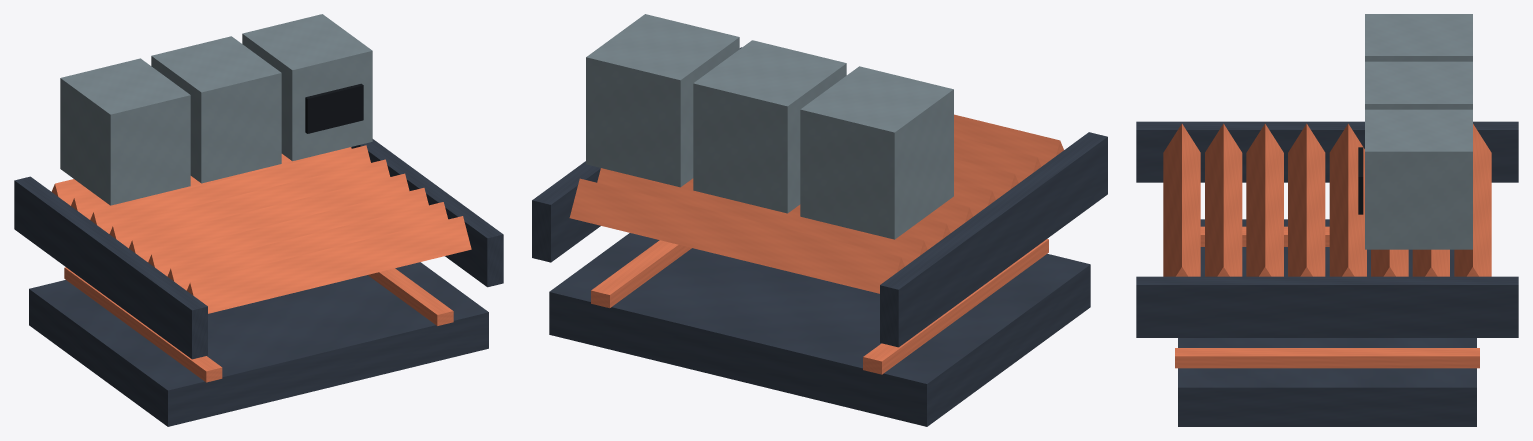
The model's file is atlas100-s023-a02.lod2.glb.
3 renders of one model, left to right at view 1: azimuth 30°, elevation 25°; view 2: azimuth 150°, elevation 25°; view 3: azimuth 270°, elevation 25°, orthographic. The views are drawn at different scales.
Parts seen in each view (by area): view 1: atlas100-s023-a02:part-000, atlas100-s023-a02:part-013, atlas100-s023-a02:part-015, atlas100-s023-a02:part-011, atlas100-s023-a02:part-017, atlas100-s023-a02:part-010, atlas100-s023-a02:part-009, atlas100-s023-a02:part-006, atlas100-s023-a02:part-008, atlas100-s023-a02:part-005, atlas100-s023-a02:part-007, atlas100-s023-a02:part-012 (+5 smaller); view 2: atlas100-s023-a02:part-000, atlas100-s023-a02:part-013, atlas100-s023-a02:part-017, atlas100-s023-a02:part-015, atlas100-s023-a02:part-011, atlas100-s023-a02:part-003, atlas100-s023-a02:part-004, atlas100-s023-a02:part-012, atlas100-s023-a02:part-001, atlas100-s023-a02:part-002, atlas100-s023-a02:part-010, atlas100-s023-a02:part-009 (+4 smaller); view 3: atlas100-s023-a02:part-012, atlas100-s023-a02:part-000, atlas100-s023-a02:part-017, atlas100-s023-a02:part-011, atlas100-s023-a02:part-002, atlas100-s023-a02:part-015, atlas100-s023-a02:part-009, atlas100-s023-a02:part-010, atlas100-s023-a02:part-007, atlas100-s023-a02:part-008, atlas100-s023-a02:part-013, atlas100-s023-a02:part-006 (+5 smaller).
Boxes of the visible parts, <box> form: atlas100-s023-a02:part-000: <box>29,262,488,426</box>; atlas100-s023-a02:part-013: <box>60,58,190,205</box>; atlas100-s023-a02:part-015: <box>151,36,281,183</box>; atlas100-s023-a02:part-011: <box>14,176,207,359</box>; atlas100-s023-a02:part-017: <box>242,14,372,161</box>; atlas100-s023-a02:part-010: <box>186,216,471,313</box>; atlas100-s023-a02:part-009: <box>167,202,448,290</box>; atlas100-s023-a02:part-006: <box>109,159,390,248</box>; atlas100-s023-a02:part-008: <box>148,188,428,276</box>; atlas100-s023-a02:part-005: <box>90,145,370,233</box>; atlas100-s023-a02:part-007: <box>129,173,409,261</box>; atlas100-s023-a02:part-012: <box>351,139,503,287</box>; atlas100-s023-a02:part-000: <box>549,233,1090,426</box>; atlas100-s023-a02:part-013: <box>800,66,953,239</box>; atlas100-s023-a02:part-017: <box>586,14,739,187</box>; atlas100-s023-a02:part-015: <box>693,40,846,213</box>; atlas100-s023-a02:part-011: <box>880,132,1107,347</box>; atlas100-s023-a02:part-003: <box>569,178,904,293</box>; atlas100-s023-a02:part-004: <box>597,168,927,266</box>; atlas100-s023-a02:part-012: <box>532,47,741,262</box>; atlas100-s023-a02:part-001: <box>863,239,1048,374</box>; atlas100-s023-a02:part-002: <box>591,240,691,308</box>; atlas100-s023-a02:part-010: <box>954,114,1063,166</box>; atlas100-s023-a02:part-009: <box>954,136,1041,182</box>; atlas100-s023-a02:part-012: <box>1136,276,1518,337</box>; atlas100-s023-a02:part-000: <box>1178,219,1476,426</box>; atlas100-s023-a02:part-017: <box>1365,109,1472,249</box>; atlas100-s023-a02:part-011: <box>1136,121,1518,182</box>; atlas100-s023-a02:part-002: <box>1175,348,1479,368</box>; atlas100-s023-a02:part-015: <box>1365,61,1472,109</box>; atlas100-s023-a02:part-009: <box>1205,123,1242,276</box>; atlas100-s023-a02:part-010: <box>1163,124,1200,276</box>; atlas100-s023-a02:part-007: <box>1288,123,1325,276</box>; atlas100-s023-a02:part-008: <box>1246,123,1283,276</box>; atlas100-s023-a02:part-013: <box>1365,14,1472,61</box>; atlas100-s023-a02:part-006: <box>1329,123,1366,276</box>.
Size of the model in its own units: 2.4 by 1.73 by 2.3.
4 materials, 4 textured.
